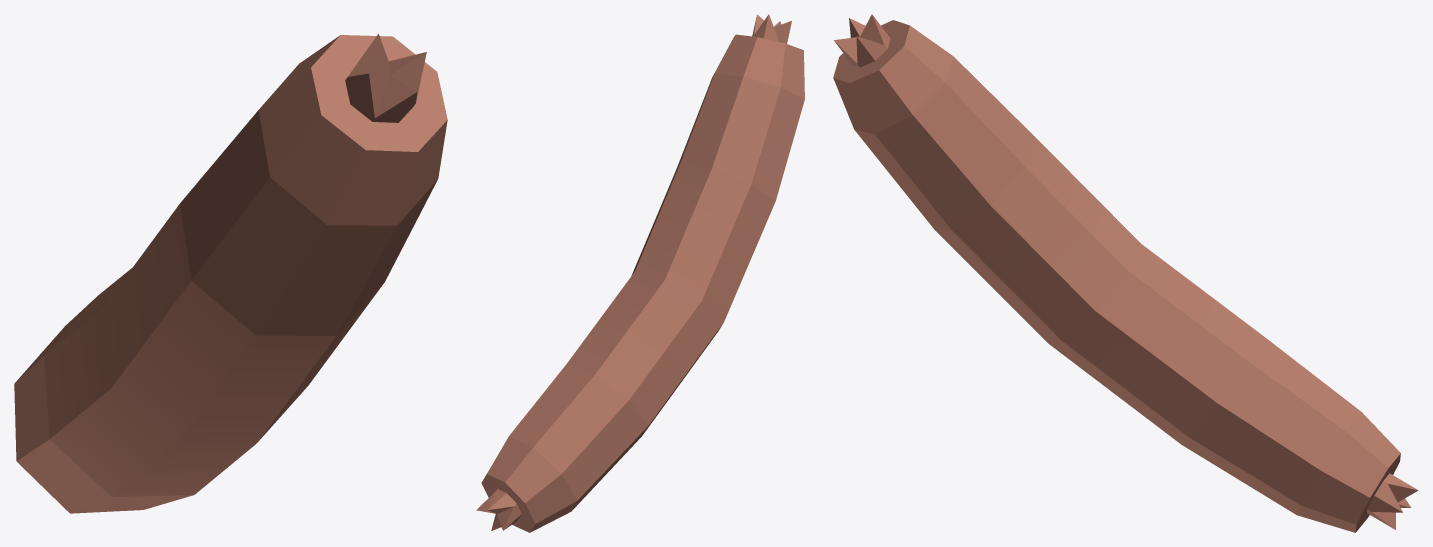
File: Salchicha.fbx
The picture shows the model from 3 angles, left to right: view 1: azimuth 30°, elevation 25°; view 2: azimuth 150°, elevation 25°; view 3: azimuth 270°, elevation 25°; orthographic projection. The views are drawn at different scales.
Visible parts, largest first — view 1: pCylinder1; view 2: pCylinder1; view 3: pCylinder1.
Part boxes in pixels (x1,y1,x2,y2): pCylinder1: (14,34,447,513); pCylinder1: (476,14,804,532); pCylinder1: (833,14,1418,532).
Size of the model in its own units: 1.41 by 3.75 by 4.14.
